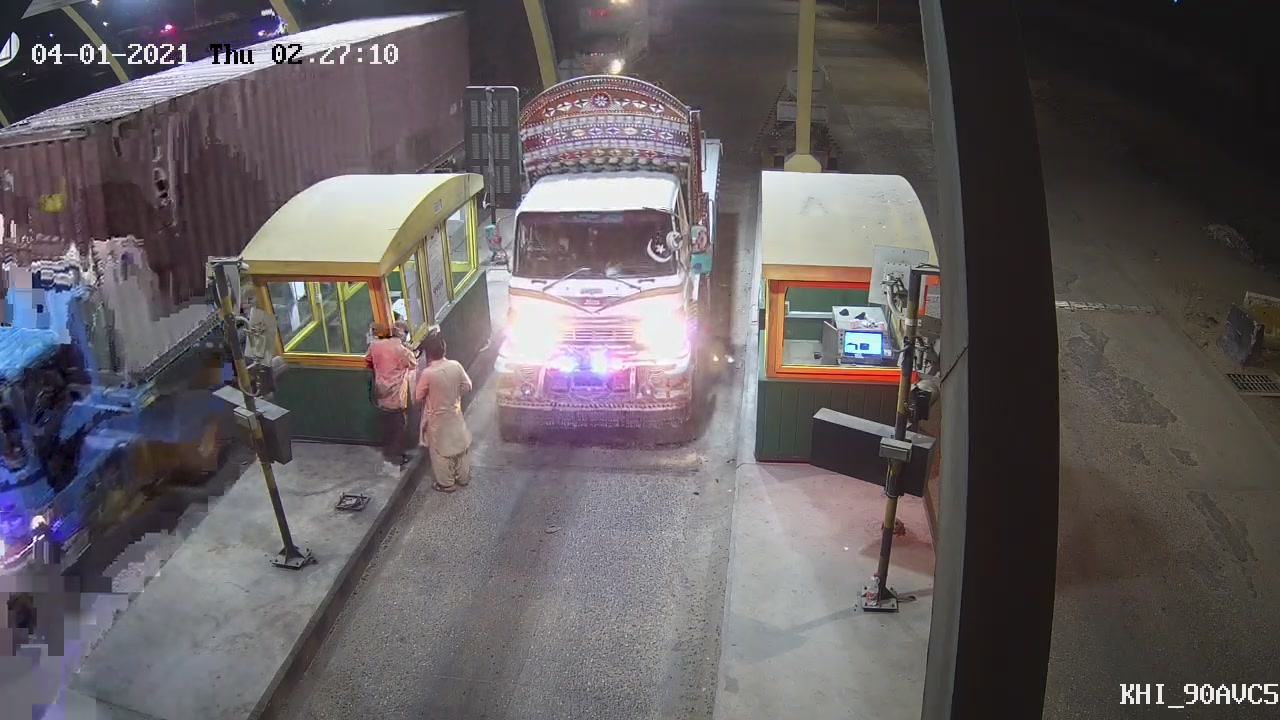F5: (481, 79, 728, 479)
